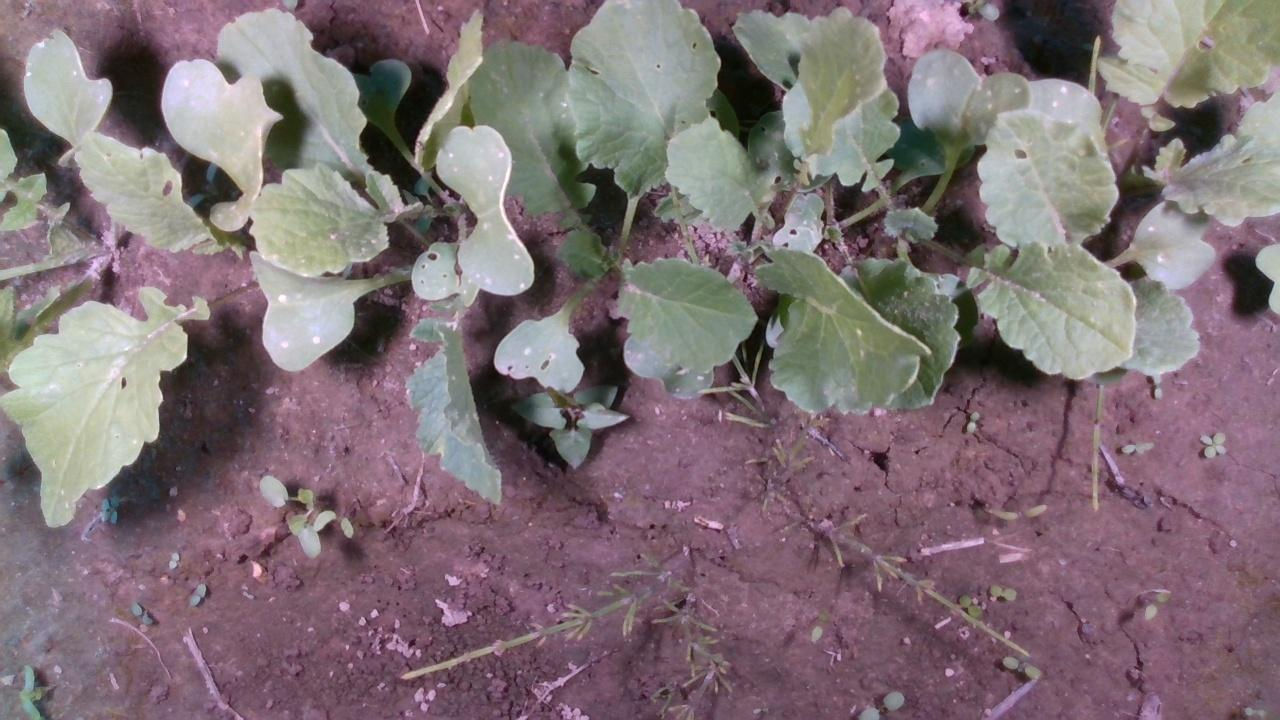weed: (986, 502, 1048, 520), (1000, 654, 1042, 680), (1141, 590, 1170, 621), (1196, 430, 1226, 458), (97, 493, 118, 524), (131, 601, 153, 625), (1118, 439, 1153, 454), (188, 581, 206, 607), (988, 584, 1016, 599), (966, 409, 979, 431), (167, 550, 179, 569)
